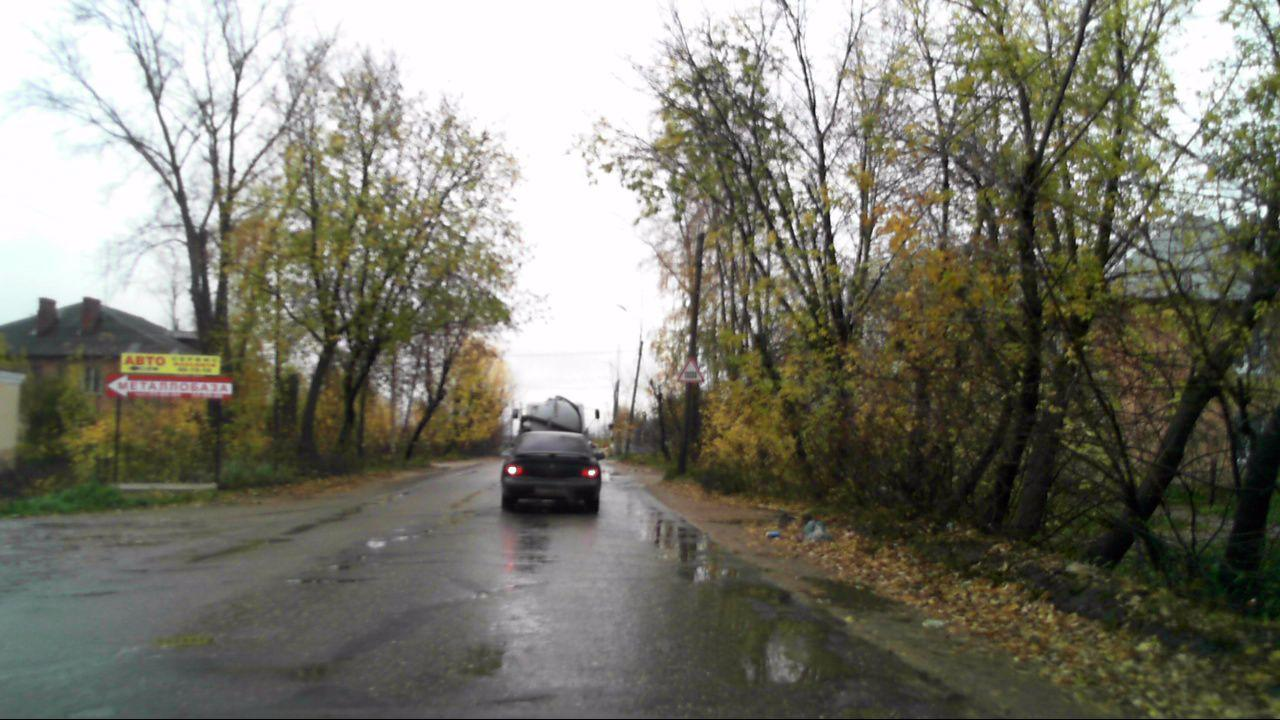1_1: (677, 356, 705, 382)
